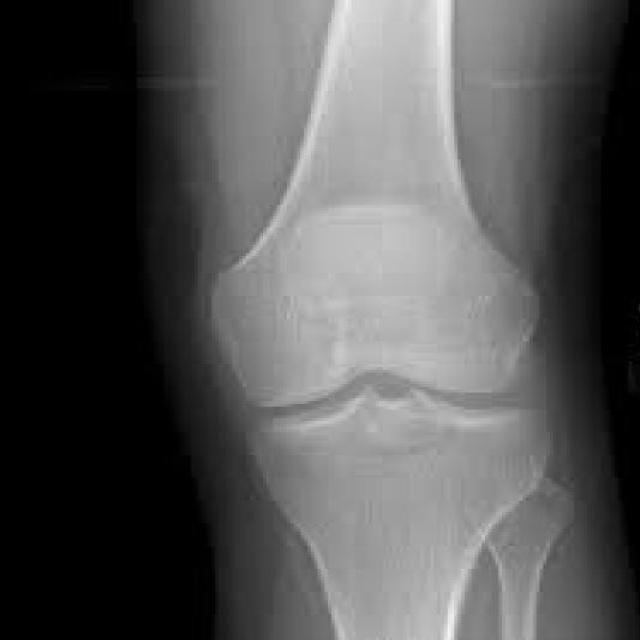Avulsion-fracture-: (474, 250, 570, 511)
